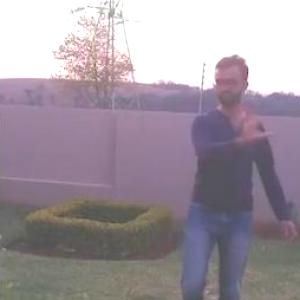follow_hand: (235, 98, 278, 143)
